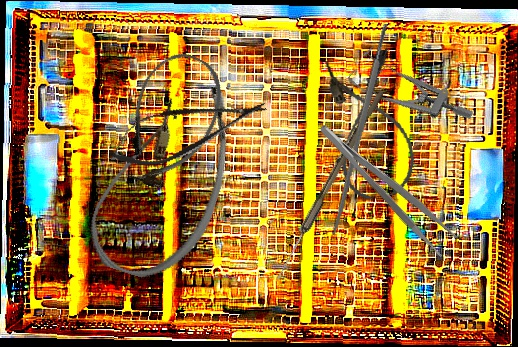Cannula: (79, 64, 250, 293), (105, 42, 237, 200), (321, 47, 421, 204)
Dressing Forceps: (316, 111, 460, 259)
Micro Scissor: (102, 81, 273, 178)
Scalpel Handle: (329, 23, 392, 236)
Speculum: (344, 34, 476, 155)
Surgical Spoon: (273, 88, 384, 283)
